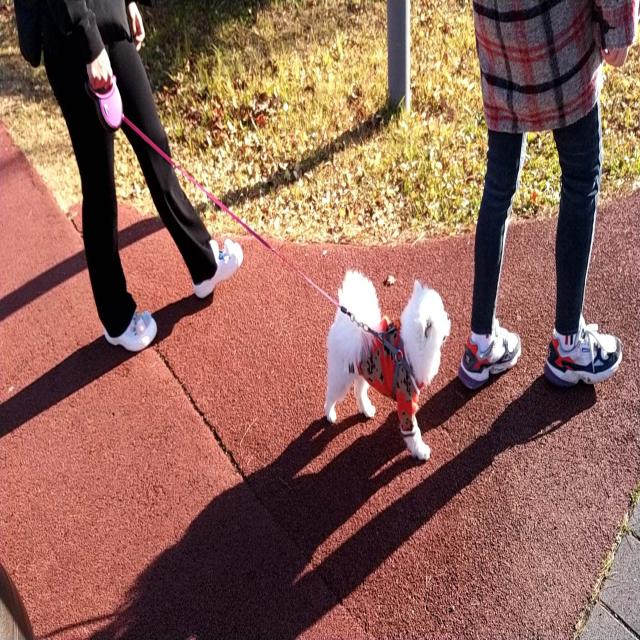Leashed_Dog: (82, 49, 452, 458)
